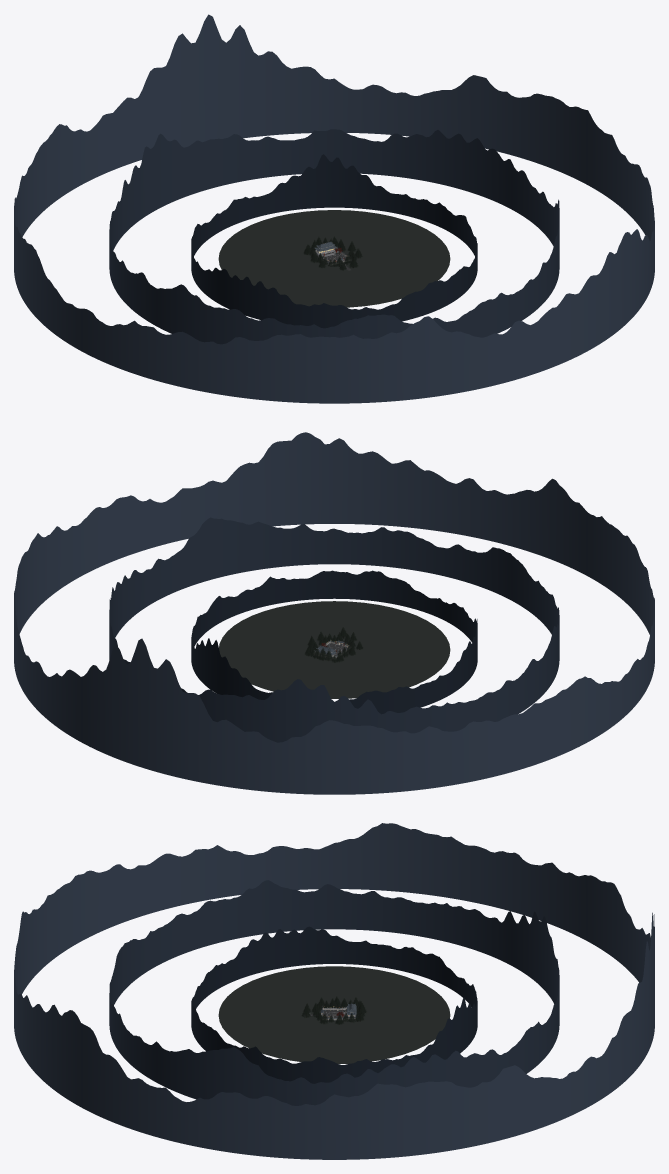
The model's file is arena.glb.
3 renders of one model, top to bottom at view 1: azimuth 30°, elevation 25°; view 2: azimuth 150°, elevation 25°; view 3: azimuth 270°, elevation 25°, orthographic.
Visible parts, largest first — view 1: BackdropMountains, Ground, BackdropNeedles; view 2: BackdropMountains, Ground, BackdropNeedles; view 3: BackdropMountains, Ground, BackdropNeedles.
Boxes of the visible parts, bbox=[...] form: BackdropMountains: bbox=[14, 14, 654, 403]; Ground: bbox=[218, 210, 450, 307]; BackdropNeedles: bbox=[303, 237, 362, 270]; BackdropMountains: bbox=[14, 432, 654, 794]; Ground: bbox=[219, 601, 450, 698]; BackdropNeedles: bbox=[305, 627, 362, 662]; BackdropMountains: bbox=[14, 823, 654, 1159]; Ground: bbox=[218, 966, 450, 1063]; BackdropNeedles: bbox=[301, 996, 366, 1024].
Size of the model in its own units: 940 by 209 by 940.
Materials: 33 (24 with a texture image).
